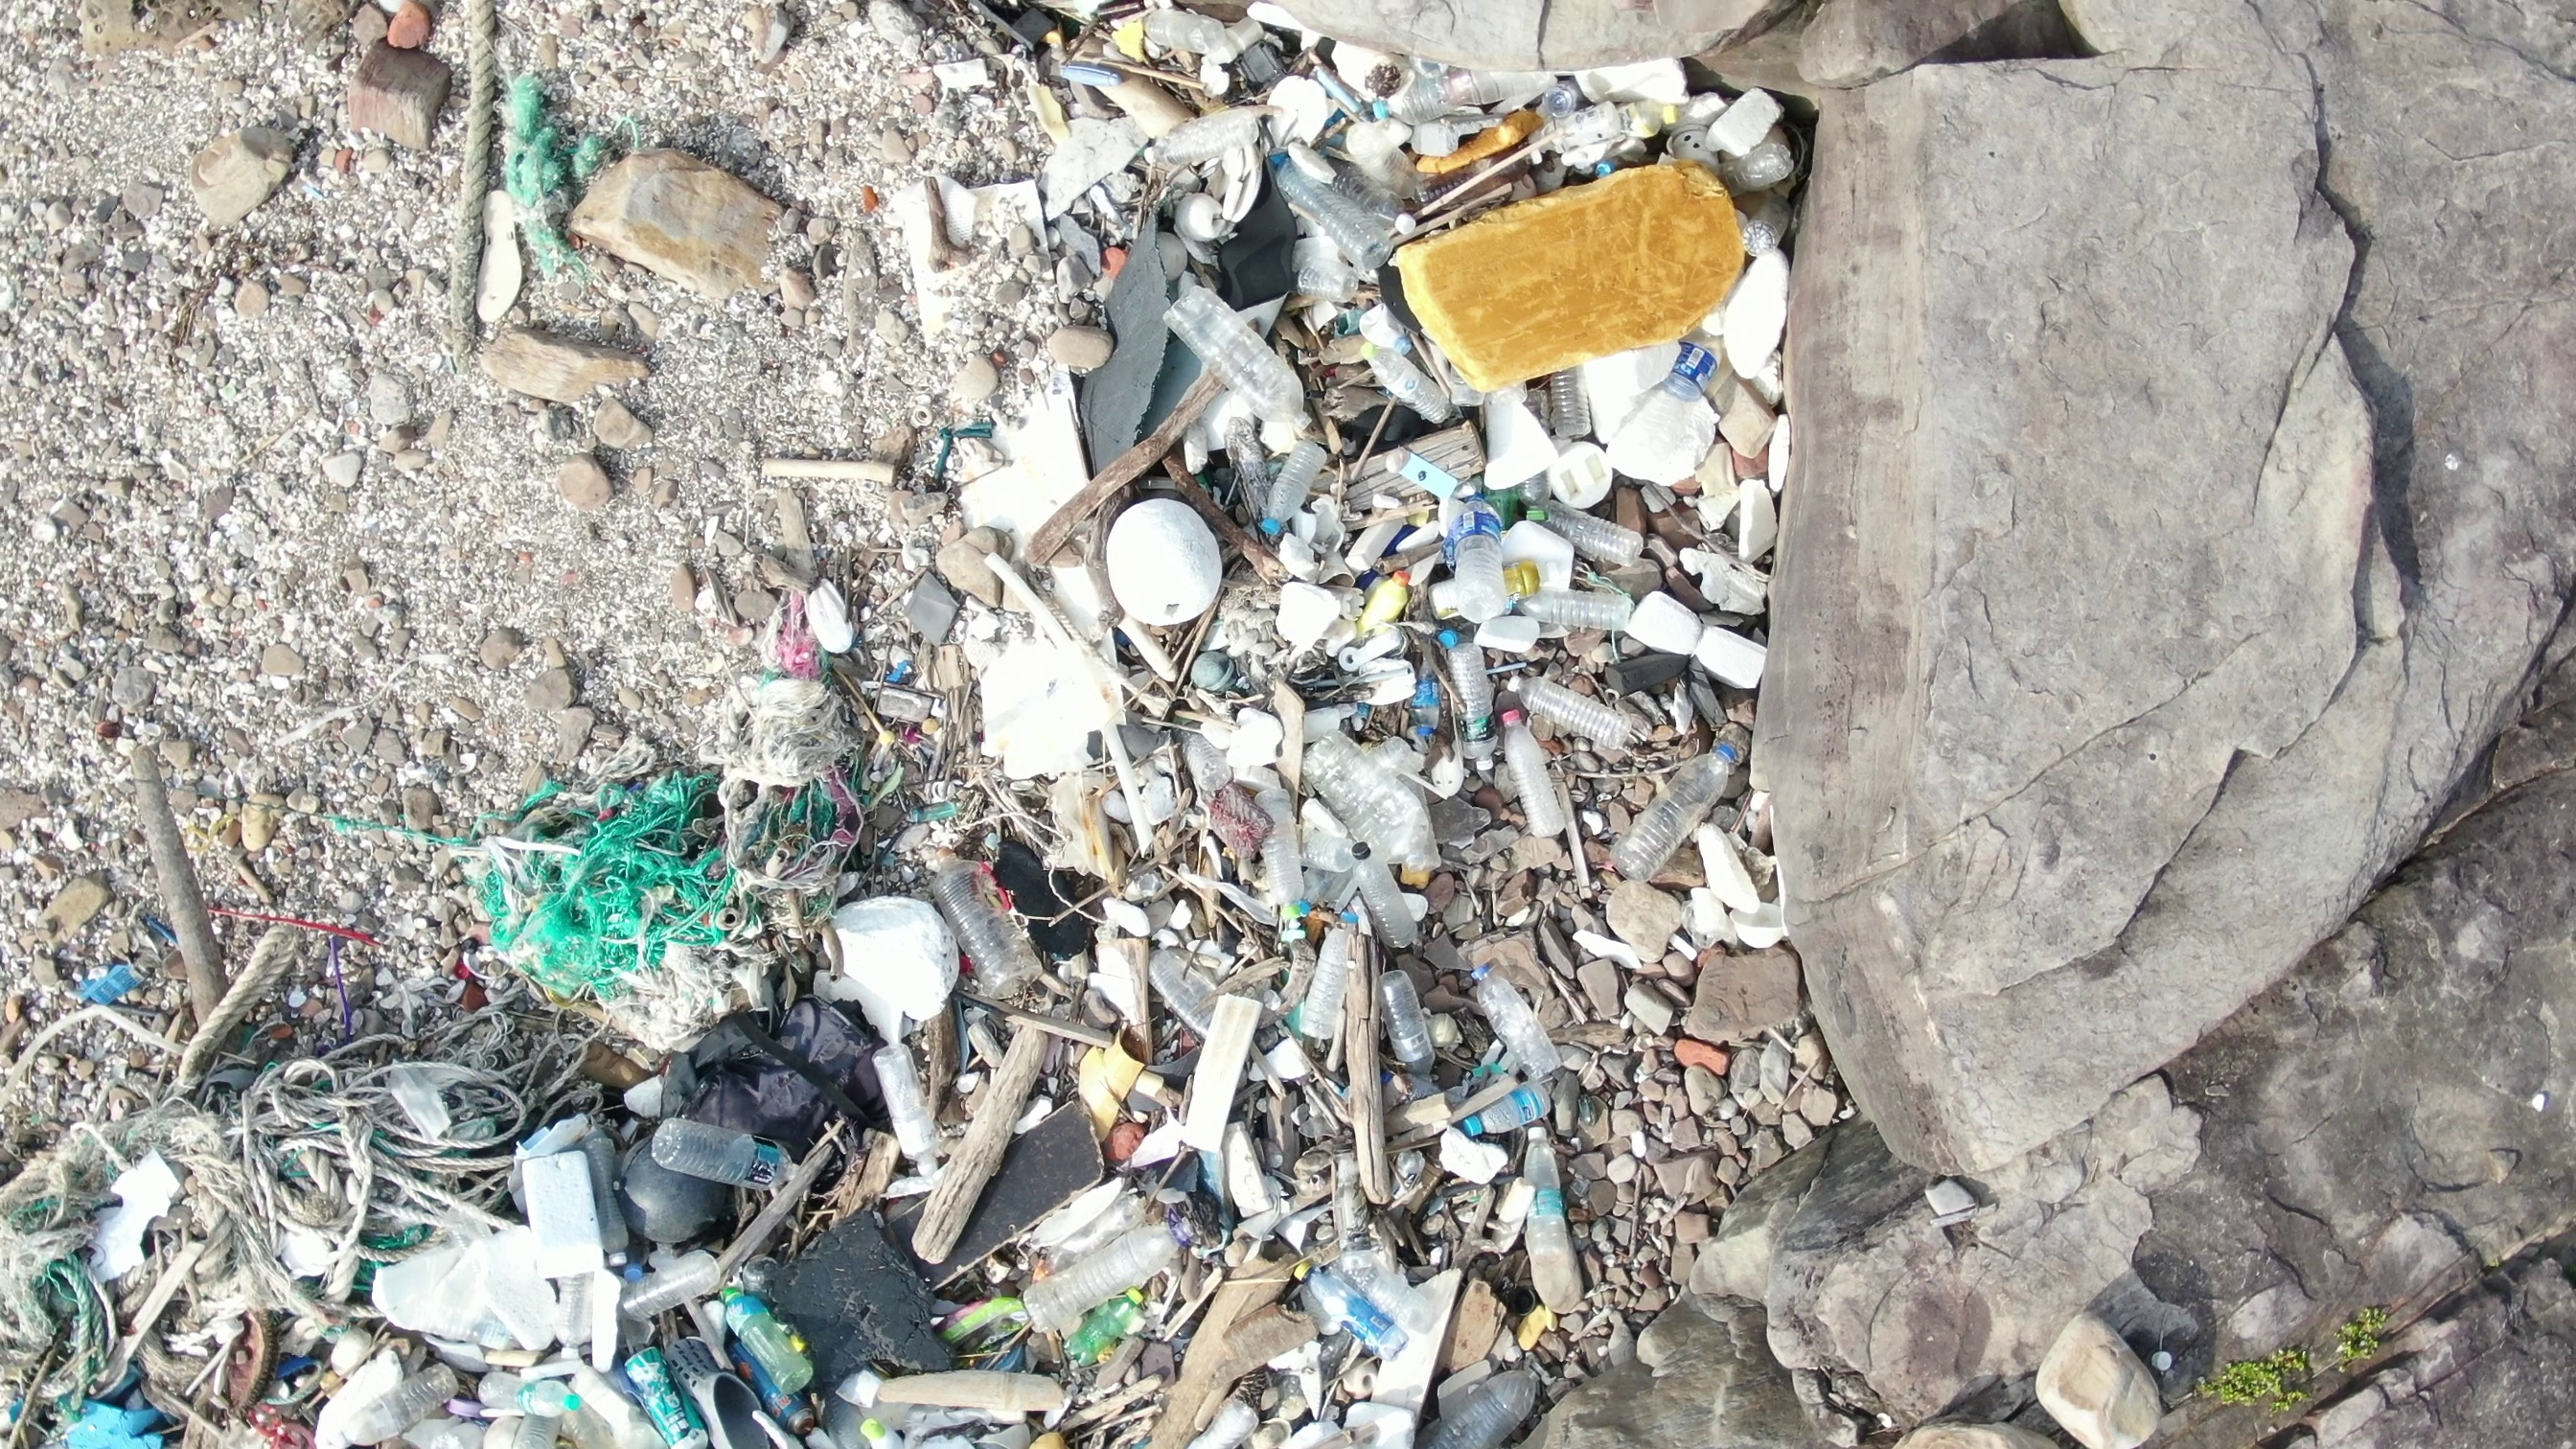bottle: (1592, 722, 1750, 899), (1175, 290, 1313, 439), (924, 849, 1051, 994), (1626, 313, 1743, 460), (1504, 1116, 1583, 1320), (860, 1030, 959, 1182), (1293, 1246, 1415, 1361), (640, 1111, 800, 1194), (338, 1345, 464, 1445), (1461, 952, 1562, 1072), (1281, 154, 1391, 264), (1435, 1355, 1560, 1449), (1361, 69, 1525, 140), (720, 1284, 823, 1387), (1493, 722, 1578, 846), (1260, 425, 1348, 541), (1143, 939, 1233, 1053), (1295, 902, 1364, 1049), (617, 1341, 706, 1449), (1444, 490, 1514, 623), (1513, 665, 1635, 738), (1532, 499, 1647, 570), (614, 1246, 722, 1320), (1445, 630, 1506, 761), (1348, 840, 1412, 952), (1453, 1086, 1573, 1145), (1077, 1281, 1157, 1362), (1375, 962, 1430, 1079), (1514, 591, 1660, 630), (1408, 621, 1445, 754), (1136, 7, 1238, 55), (476, 1378, 579, 1419), (1732, 193, 1790, 258), (1548, 372, 1592, 439)
garbage: (1026, 14, 1785, 925), (478, 370, 1030, 1449), (1024, 913, 1603, 1449), (4, 927, 479, 1449), (501, 48, 617, 306), (428, 4, 510, 354)
